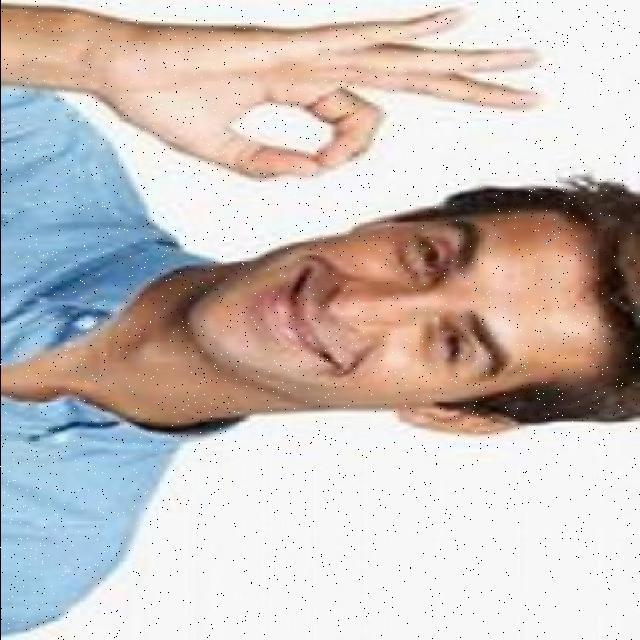no_apron: (105, 0, 552, 183)
